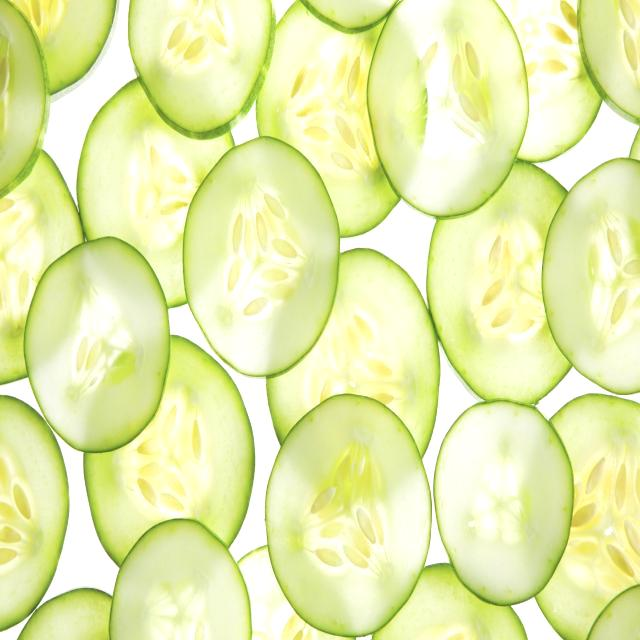cucumber: (267, 244, 442, 488), (263, 392, 437, 634), (79, 75, 239, 321), (93, 331, 256, 571), (183, 141, 343, 376), (432, 160, 576, 414), (368, 1, 526, 217), (26, 235, 166, 453), (440, 396, 578, 608), (547, 158, 640, 396), (108, 520, 255, 640)
